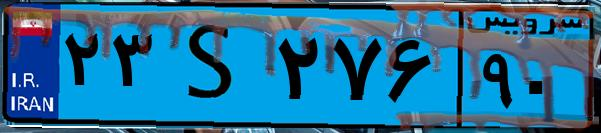0: (525, 38, 570, 115)
2: (270, 28, 330, 110), (57, 26, 110, 100)
3: (110, 28, 158, 98)
6: (385, 28, 445, 110)
7: (330, 28, 385, 110)
9: (475, 38, 525, 113)
S: (158, 12, 270, 120)
